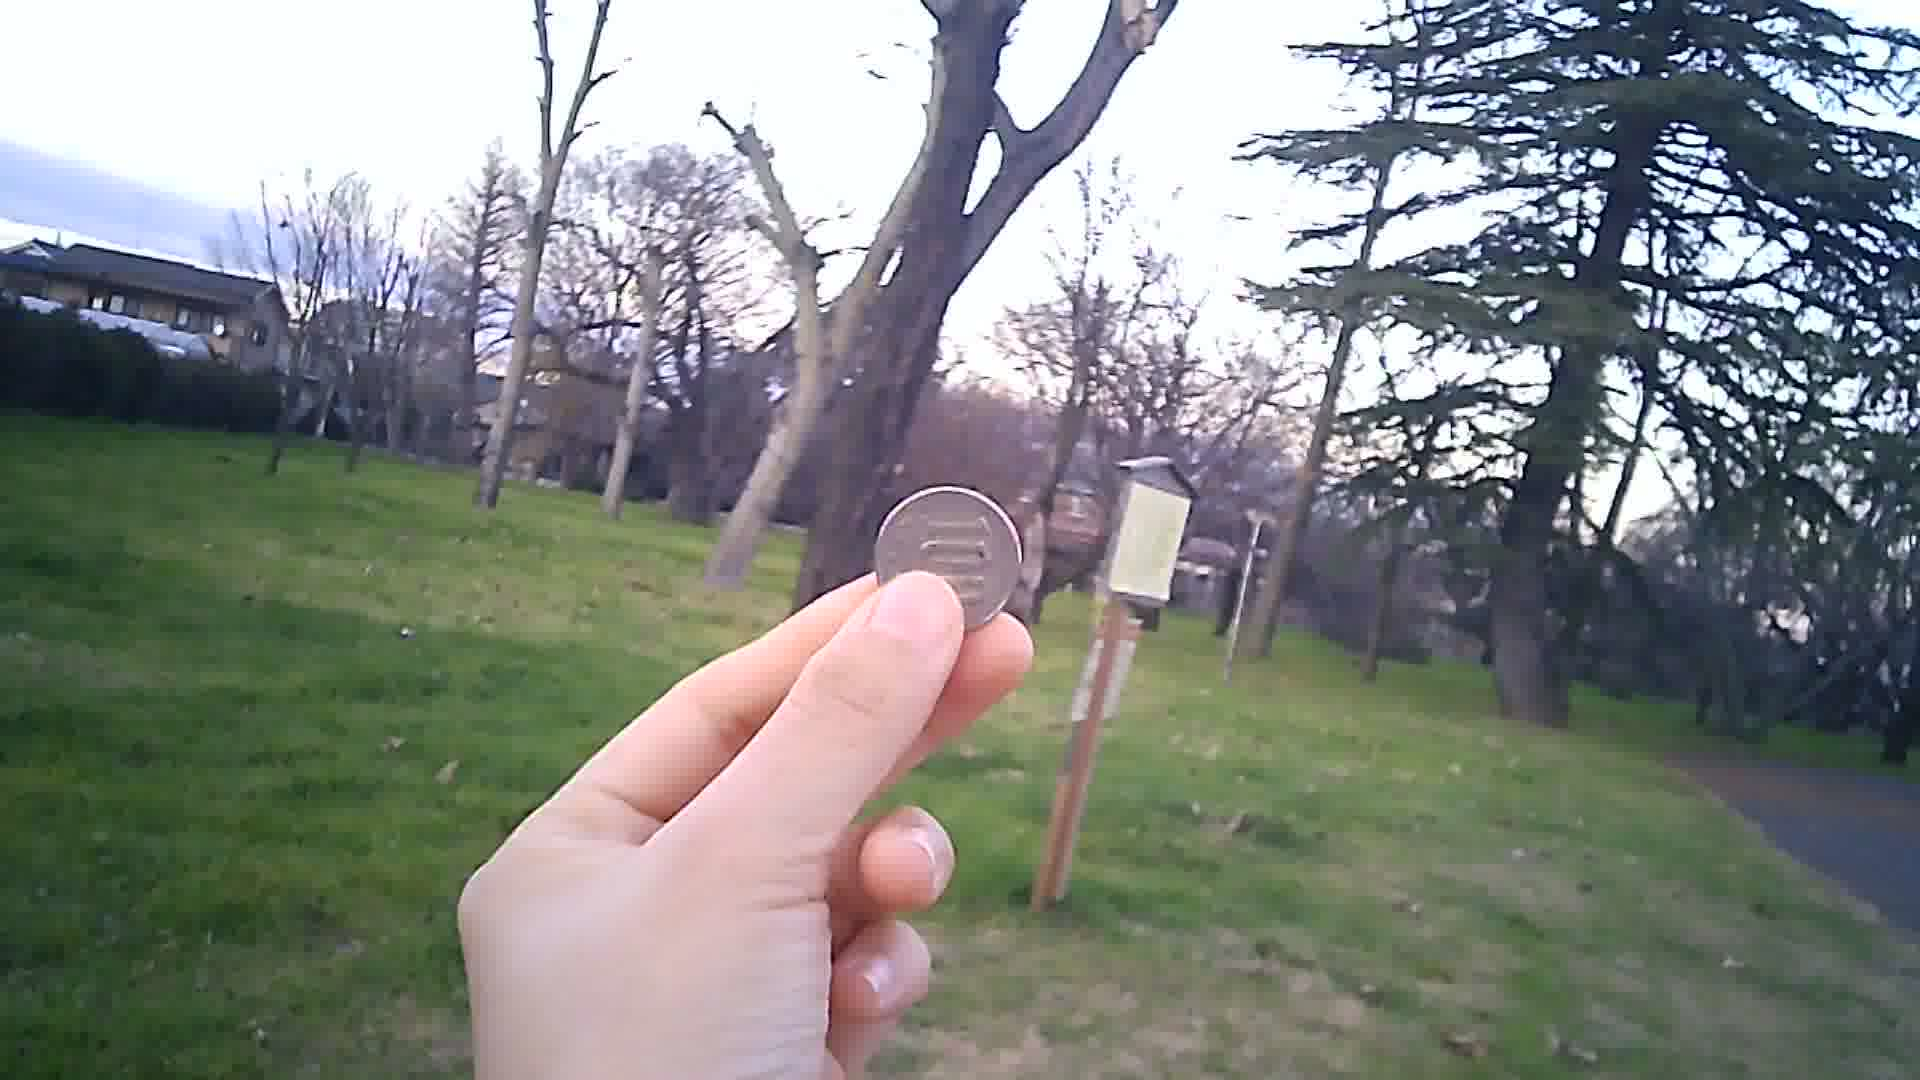100 Yen: (862, 477, 1029, 632)
